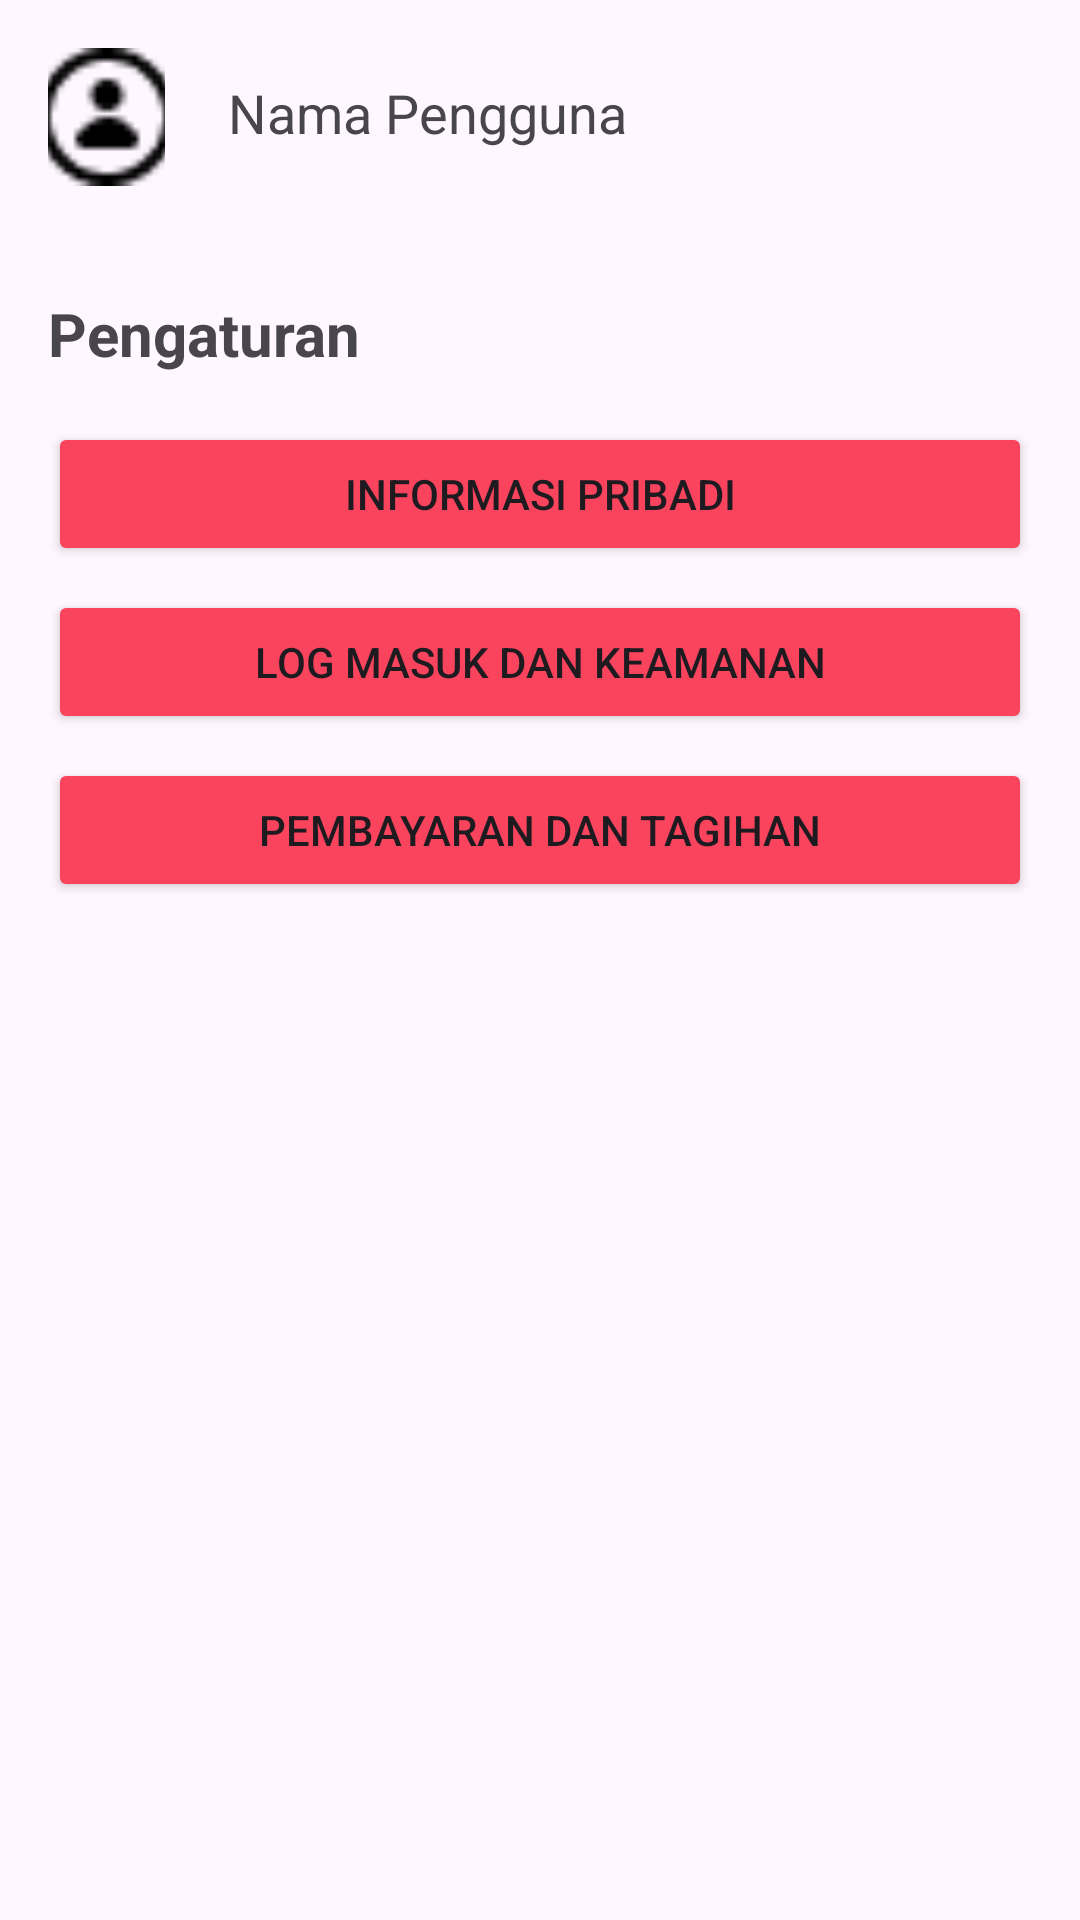

Screen size 1080*1920. Icon name, then its center in pixels as (x,y):
profil: (106,117)
